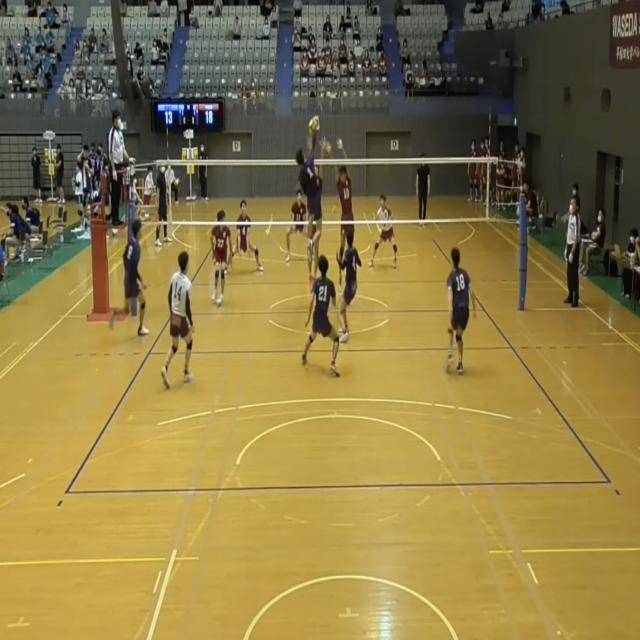spike: (293, 112, 327, 270)
